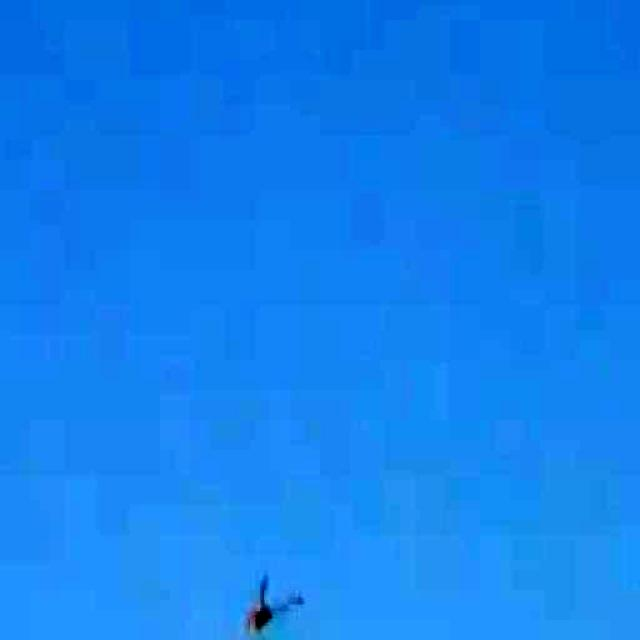drone: (234, 549, 341, 640)
